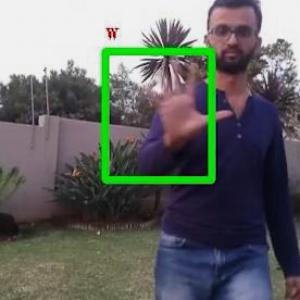follow_hand: (137, 48, 234, 146)
